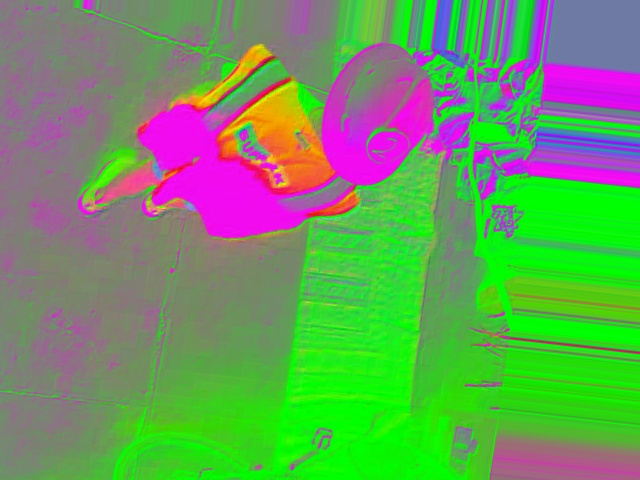two: (363, 128, 412, 169)
